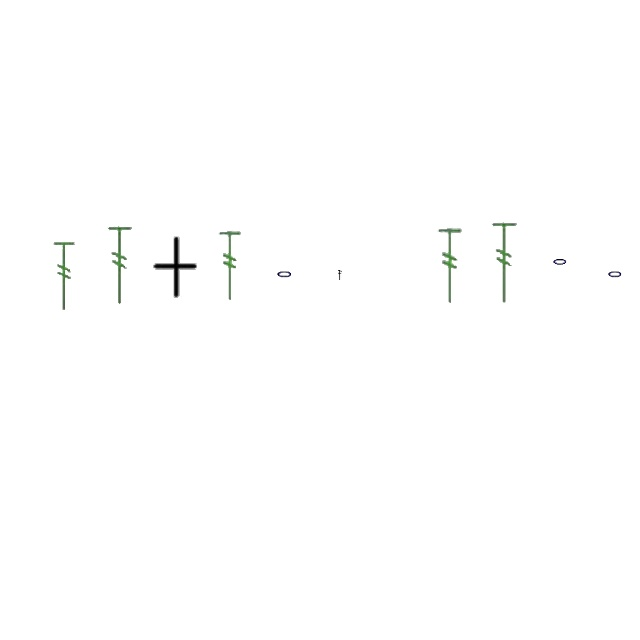chain: (276, 268, 294, 280), (552, 256, 568, 268), (607, 268, 623, 280)
double: (150, 236, 200, 300)
double treble: (338, 270, 342, 280)
fan: (490, 219, 520, 307), (105, 224, 135, 308), (436, 227, 464, 305), (52, 240, 78, 312), (218, 230, 242, 302)
